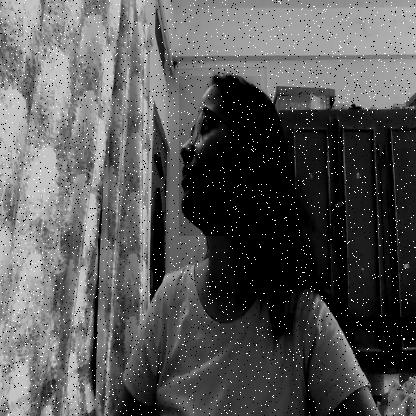Distracted: (180, 76, 262, 236)
